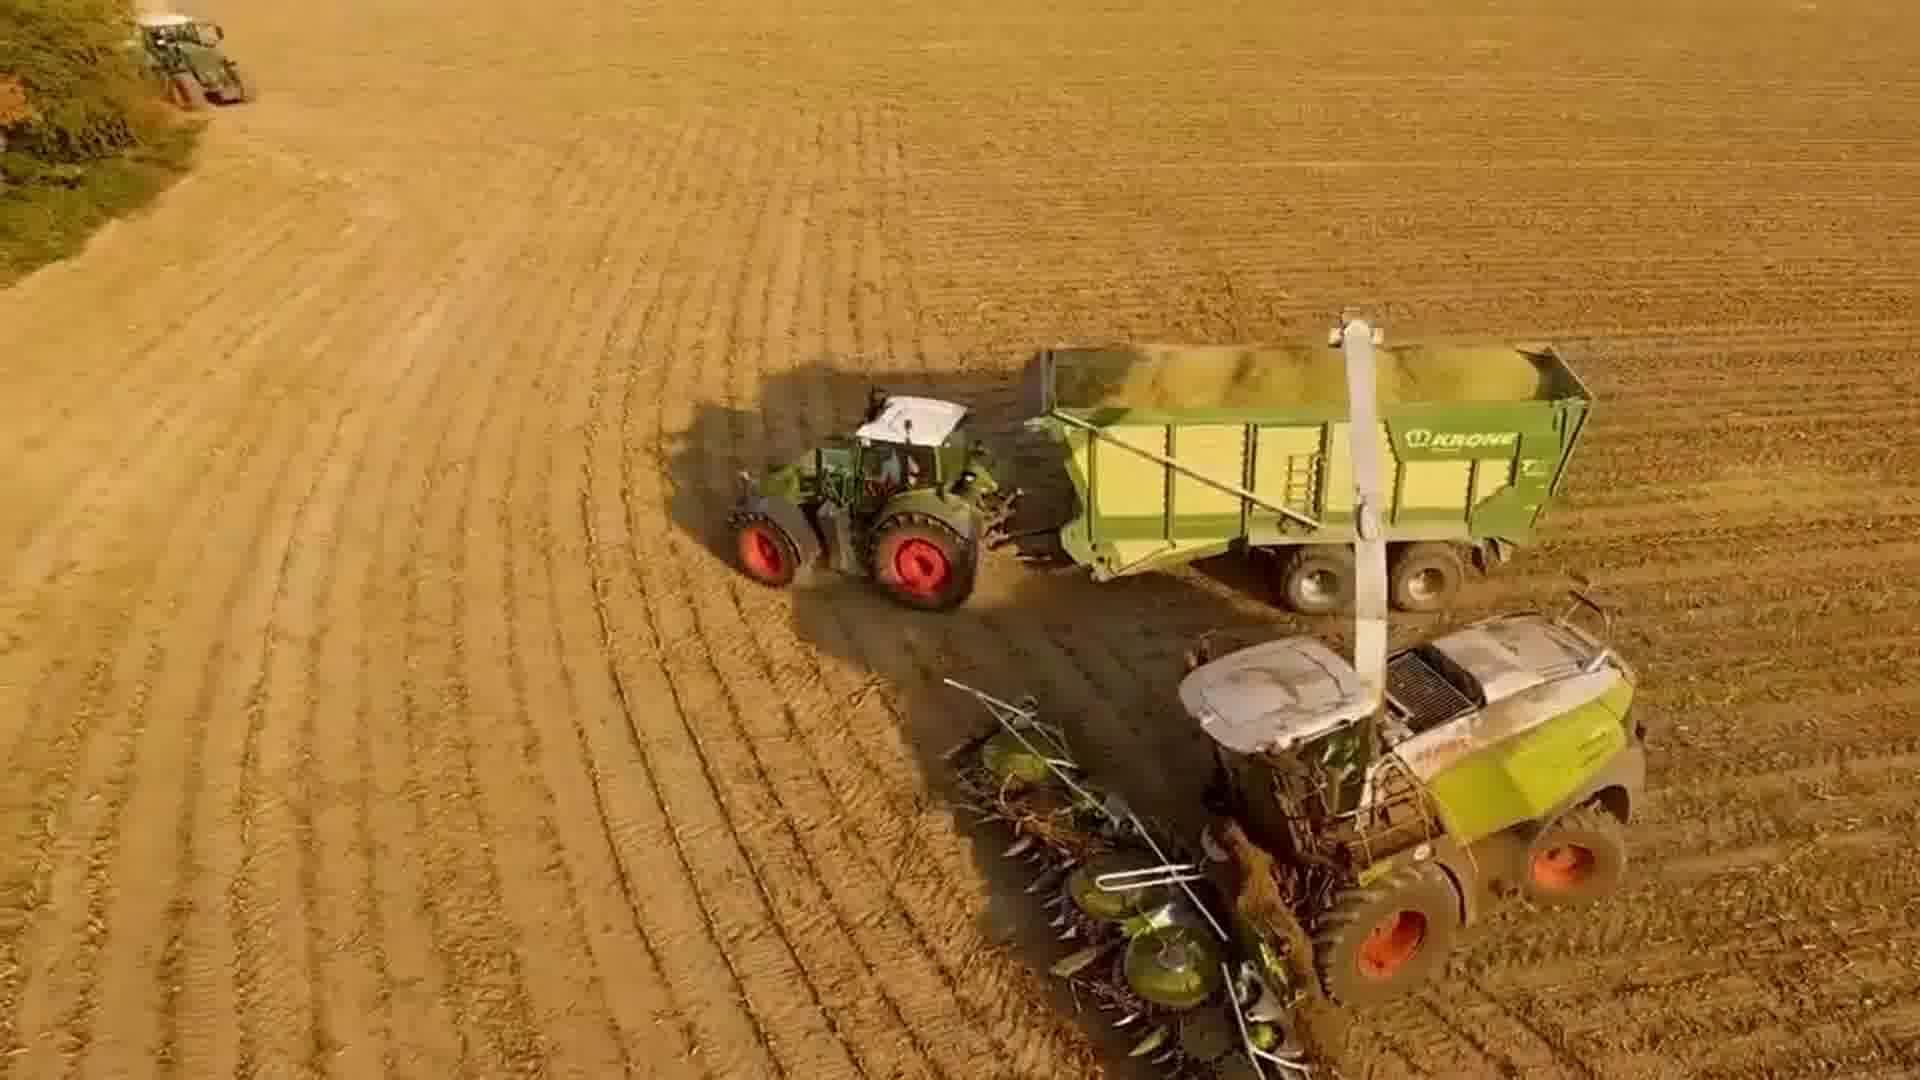combine harvester: (924, 299, 1662, 1080)
tractor: (720, 384, 1026, 618), (127, 11, 258, 119)
trailer: (1010, 323, 1607, 624)
